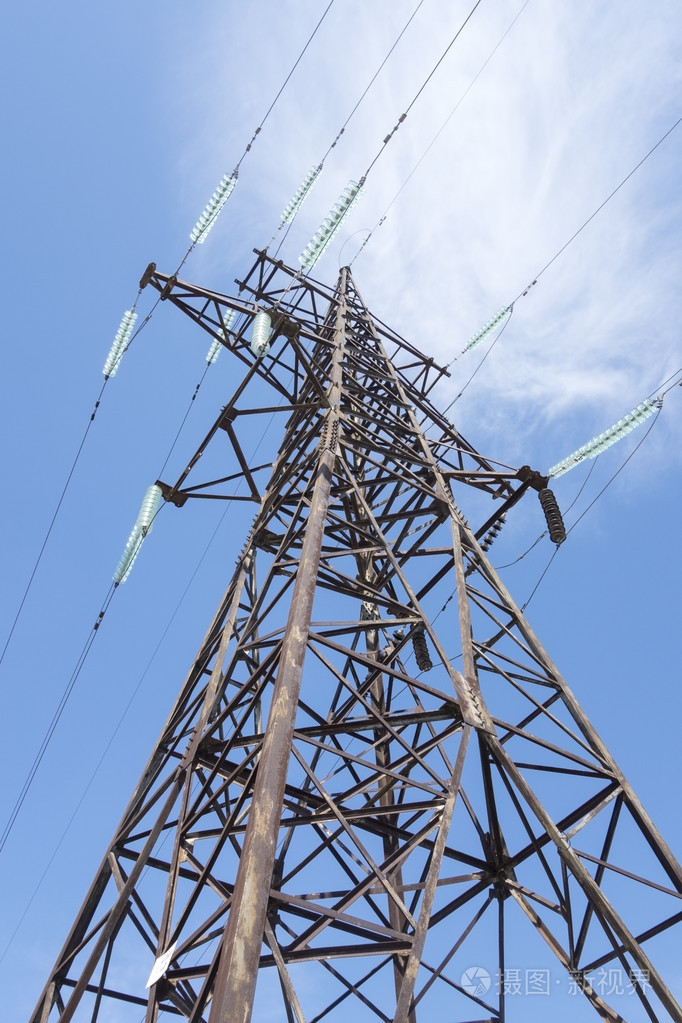insulator: (552, 399, 659, 471), (300, 182, 364, 261), (112, 486, 160, 584), (191, 179, 238, 244), (102, 311, 135, 373), (464, 518, 501, 573), (535, 487, 566, 546), (247, 310, 277, 356)
